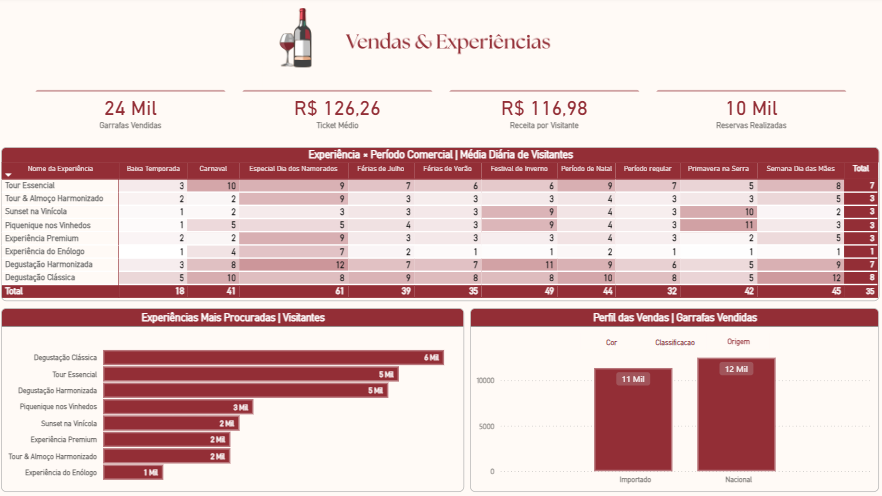

The dashboard page shown, as its layout file describes it:
{"tool":"powerbi","page":{"name":"Vendas & Experiências","canvas":[1280,720],"ordinal":1},"visuals":[{"type":"image","box":[49.7,0,1198.8,132.1],"z":0},{"type":"cardVisual","fields":{"Data":["Medidas.Garrafas Vendidas","Medidas.Ticket Médio","Medidas.Receita por Visitante","Medidas.Reservas Realizadas"]},"box":[31.3,110.1,1217.3,114.6],"z":1000},{"type":"clusteredColumnChart","title":"Perfil das Vendas | Garrafas Vendidas","fields":{"Category":["Produtos.Cor","Produtos.Classificacao","Produtos.Origem"],"Y":["Medidas.Garrafas Vendidas"]},"box":[683,448.4,589,265],"z":2000},{"type":"slicer","fields":{"Values":["Análise de Produto.Análise de Produto"]},"box":[820.8,482.5,312.4,25.1],"z":3000},{"type":"barChart","title":"Experiências Mais Procuradas | Visitantes","fields":{"Category":["Experiencias.Nome_Experiencia"],"Y":["Medidas.Total Visitantes"]},"box":[7.2,448.4,666.9,265],"z":4000},{"type":"pivotTable","title":"Experiência × Período Comercial | Média Diária de Visitantes","fields":{"Rows":["Experiencias.Nome_Experiencia"],"Columns":["Calendario.Periodo_Comercial"],"Values":["Medidas.Média Visitantes por Dia"]},"box":[7.2,216.6,1264.8,222],"z":5000}]}

Visuals, with their boxes in screenshot pixels (x1, y1, x2, y2), scaled from the page's 1280x720 canvas onto the 882x496 screenshot:
image: bbox=[34, 0, 860, 91]
cardVisual - Medidas.Garrafas Vendidas x Medidas.Ticket Médio: bbox=[22, 76, 860, 155]
"Perfil das Vendas | Garrafas Vendidas" clusteredColumnChart: bbox=[471, 309, 876, 491]
slicer - Análise de Produto.Análise de Produto: bbox=[566, 332, 781, 350]
"Experiências Mais Procuradas | Visitantes" barChart: bbox=[5, 309, 464, 491]
"Experiência × Período Comercial | Média Diária de Visitantes" pivotTable: bbox=[5, 149, 876, 302]
